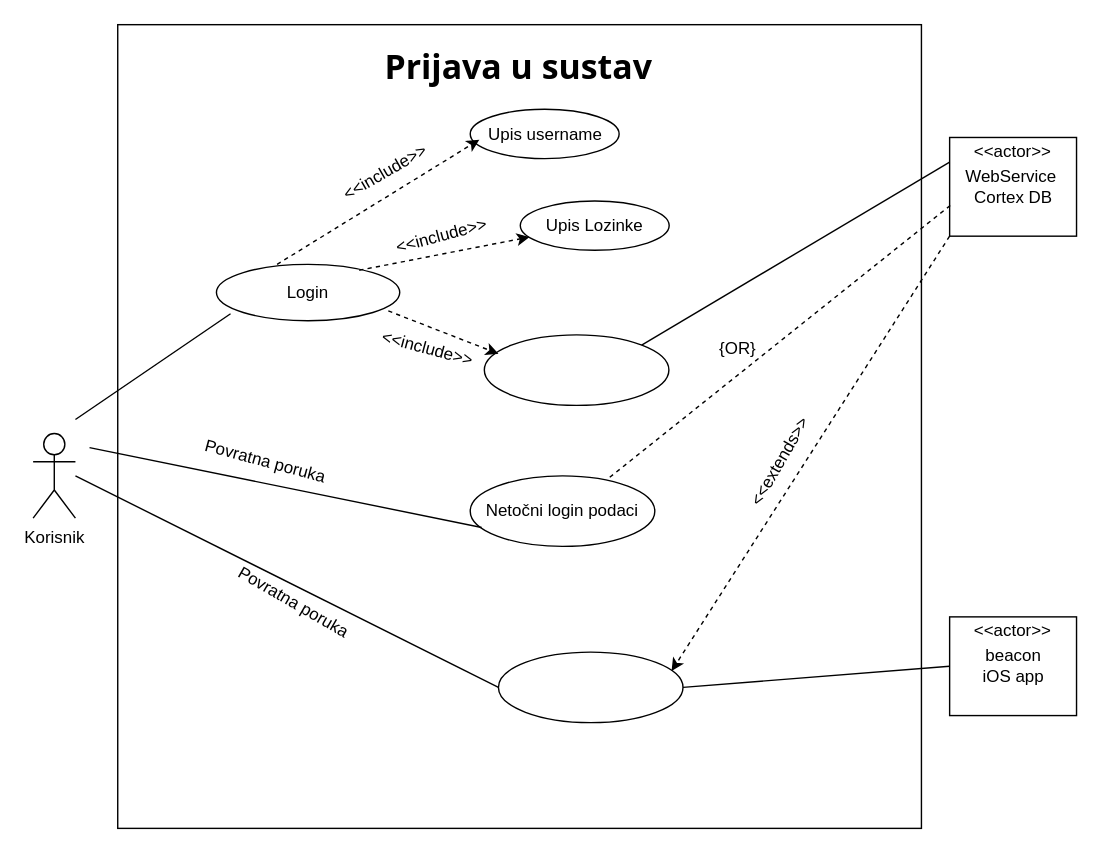
Image size: 1101x853. Some labels were removed from this diagram. Here are the shapes that lost their labels. From the top down, the box of each, then its label:
(483, 333, 669, 405): Autentifikacija korisnika
(497, 651, 683, 723): Pristup odobren
